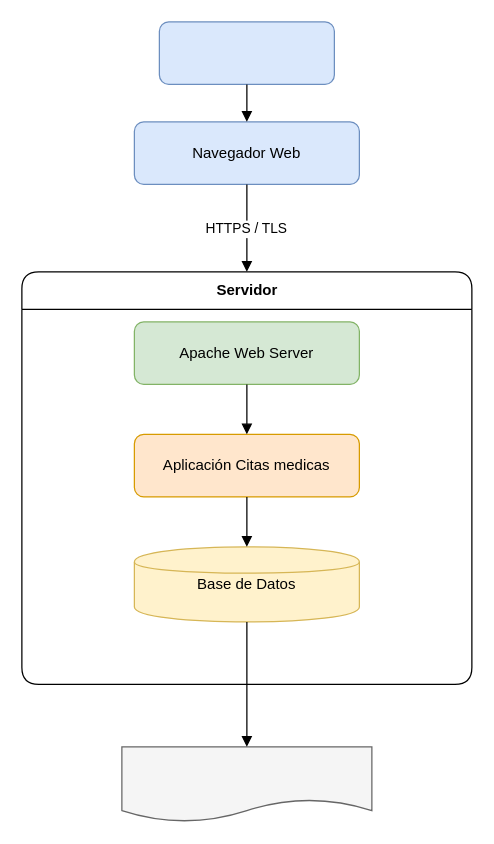
Image size: 494x844. Some labels were removed from this diagram. Each missing label, with the centre of its shape:
Copias de Seguridad: the point at 246,784
Usuarios: the point at 246,52
